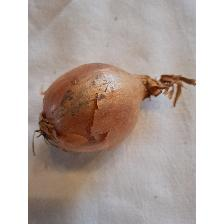Zwiebel: (31, 61, 195, 157)
